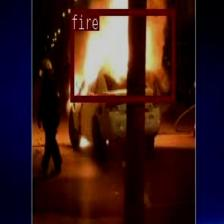fire: (69, 8, 174, 100)
